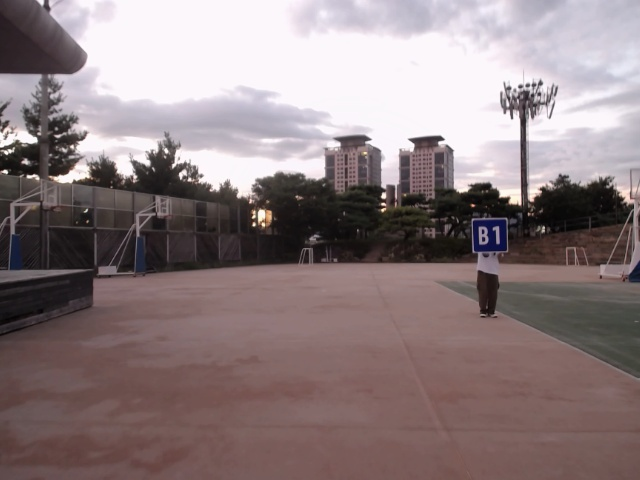delivery_b1: (472, 218, 508, 253)
